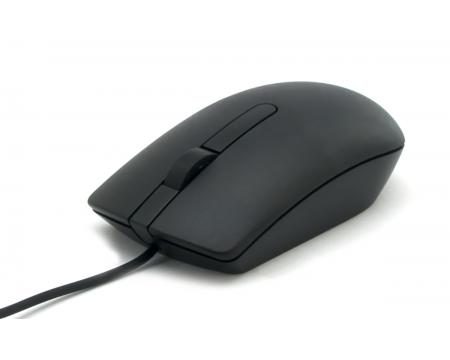dell-mouse-ms116: (1, 74, 407, 319)
